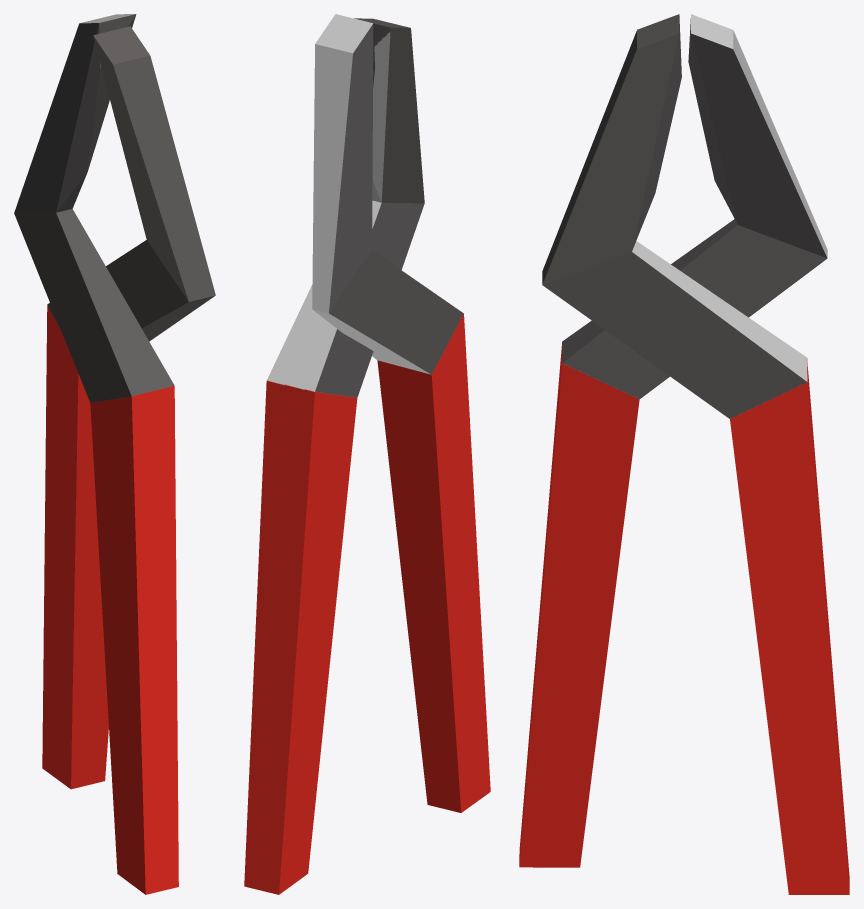
File: knipex.glb
The picture shows the model from 3 angles, left to right: view 1: azimuth 30°, elevation 25°; view 2: azimuth 150°, elevation 25°; view 3: azimuth 270°, elevation 25°; orthographic projection. The views are drawn at different scales.
Visible parts, largest first — view 1: Model; view 2: Model; view 3: Model.
Boxes of the visible parts, bbox=[...] form: Model: bbox=[14, 14, 215, 894]; Model: bbox=[244, 14, 490, 894]; Model: bbox=[519, 14, 849, 894].
Bounding box in the file's own units: 0.2812 × 2.42 × 0.8485.
Materials: 1 (1 with a texture image).
